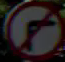Don't turn right: (5, 8, 57, 51)
